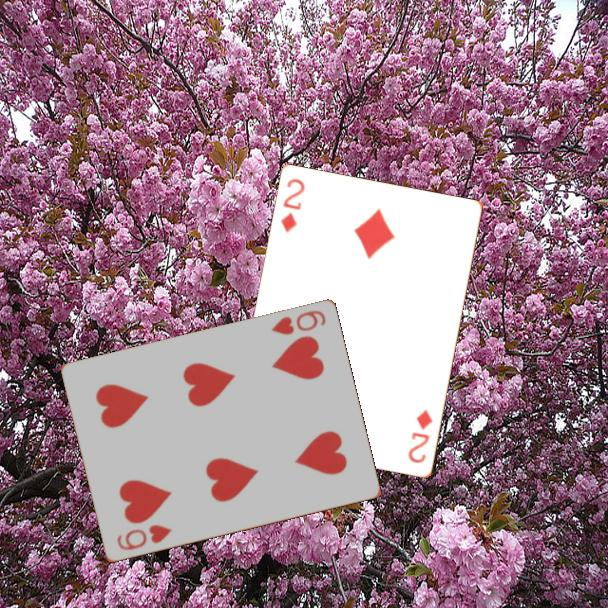d02: (405, 406, 436, 467), (278, 175, 308, 235)
h06: (113, 521, 175, 554), (267, 307, 329, 338)
